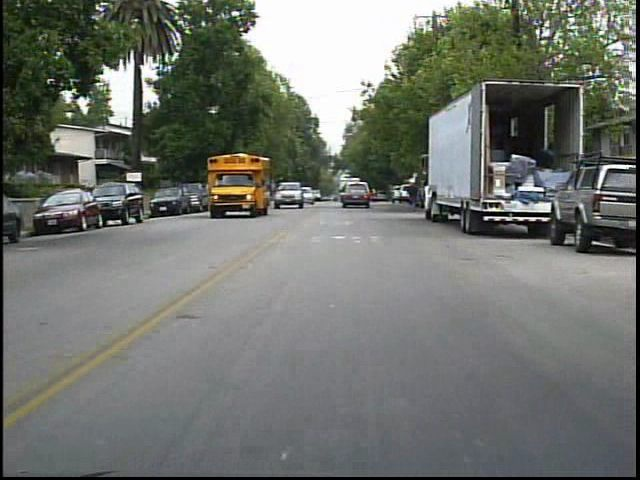person: (402, 175, 424, 220)
